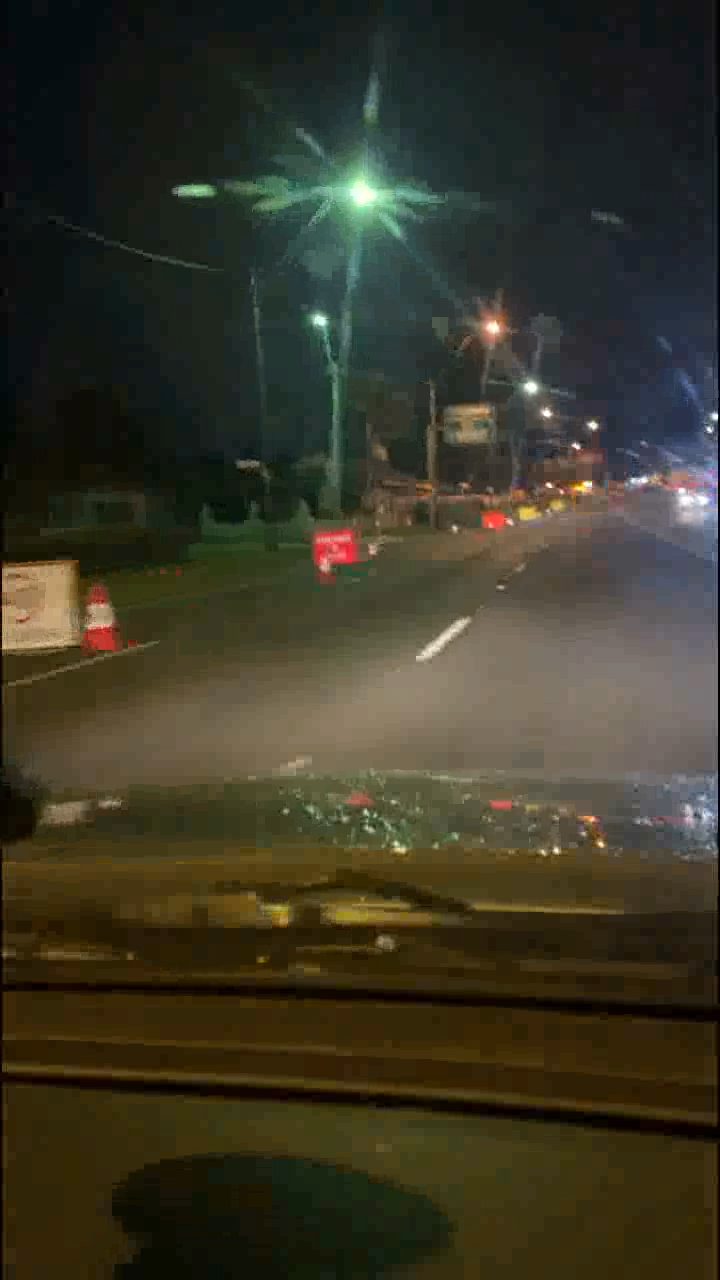road cone: (87, 596, 125, 661)
road works sign board: (310, 534, 352, 565), (481, 511, 502, 525)
speed board: (2, 565, 77, 650)
